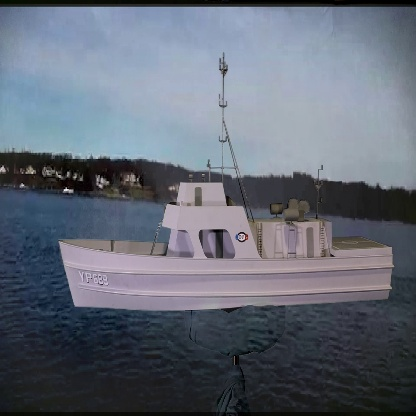YP689: (56, 49, 395, 313)
